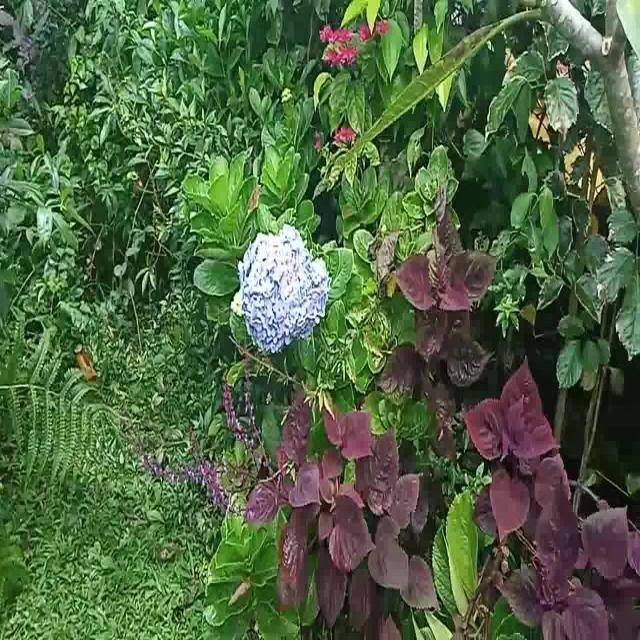Flower: (233, 220, 332, 360)
